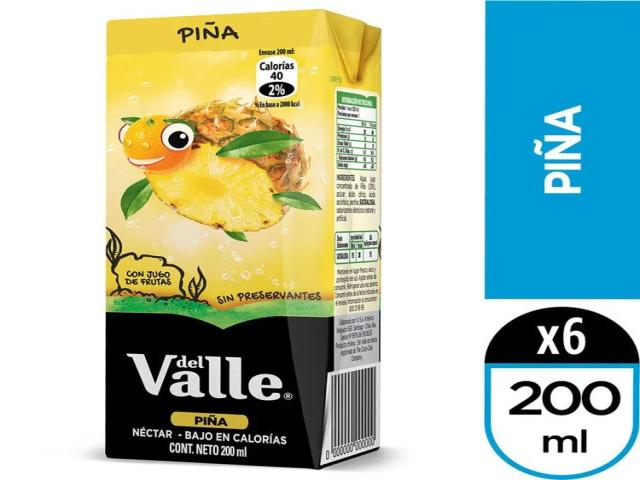drink_box: (97, 6, 395, 472)
